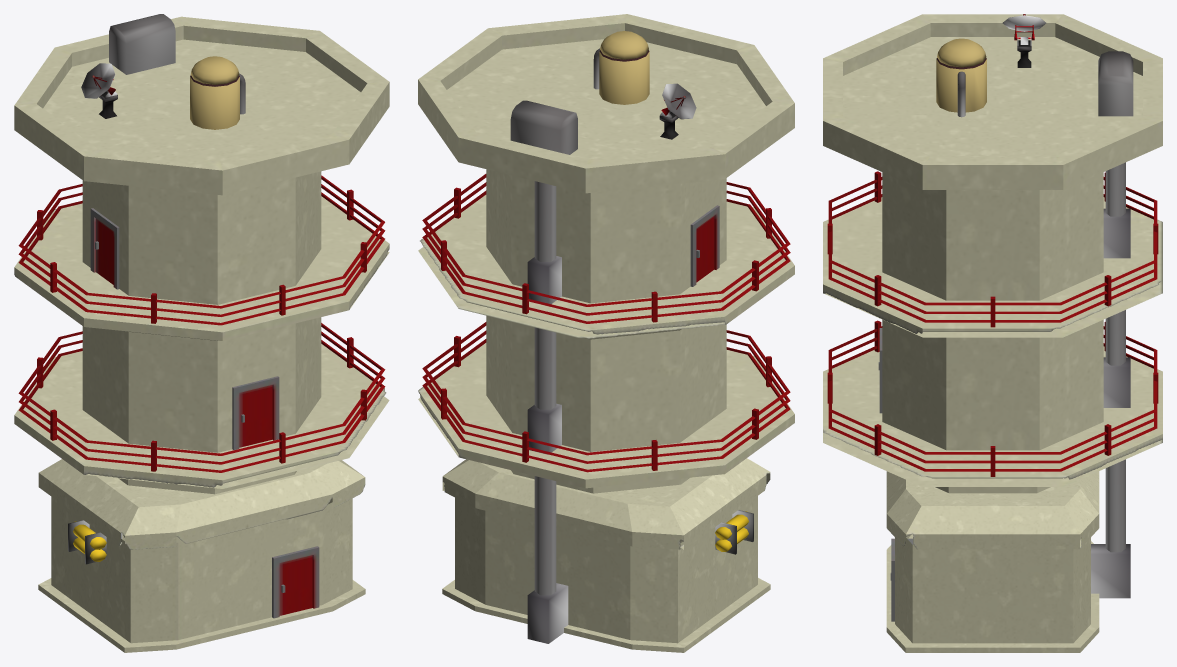
File: Edificio6.fbx
The picture shows the model from 3 angles, left to right: view 1: azimuth 30°, elevation 25°; view 2: azimuth 150°, elevation 25°; view 3: azimuth 270°, elevation 25°; orthographic projection.
Visible parts, largest first — view 1: LOD_0; view 2: LOD_0; view 3: LOD_0.
Boxes of the visible parts, <box> form: LOD_0: <box>14,14,389,652</box>; LOD_0: <box>418,14,794,652</box>; LOD_0: <box>823,14,1162,652</box>.
Size of what is drawn, in the model's own units: 1180 by 2000 by 1124.
